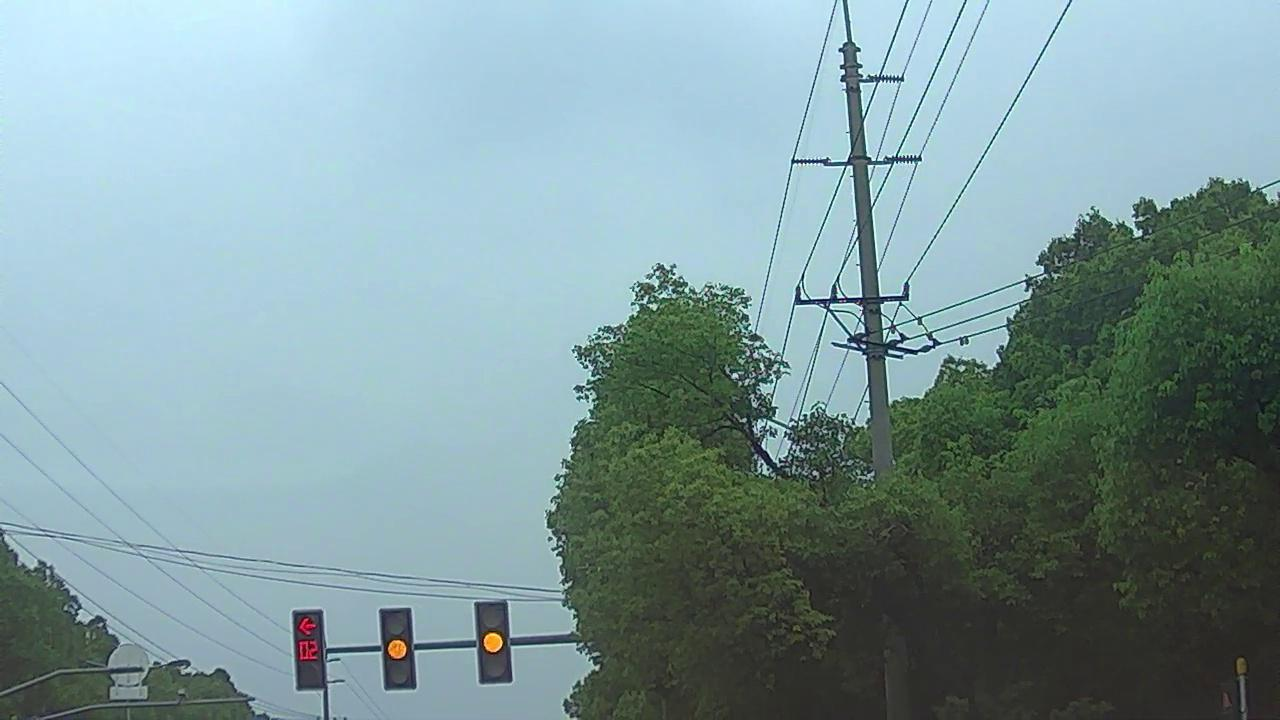traffic_light: (476, 602, 513, 682), (380, 610, 414, 687), (293, 613, 323, 690)
